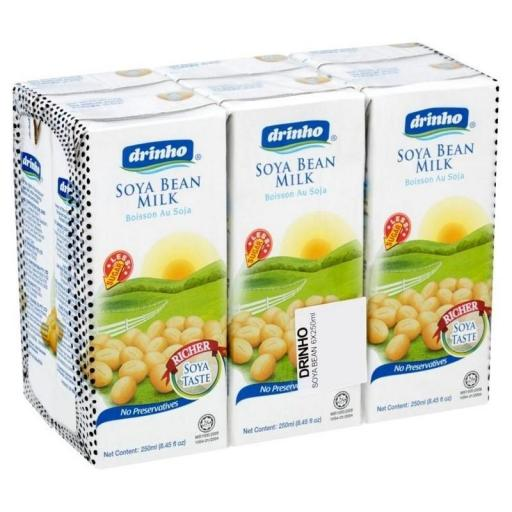drink carton: (20, 37, 491, 463)
